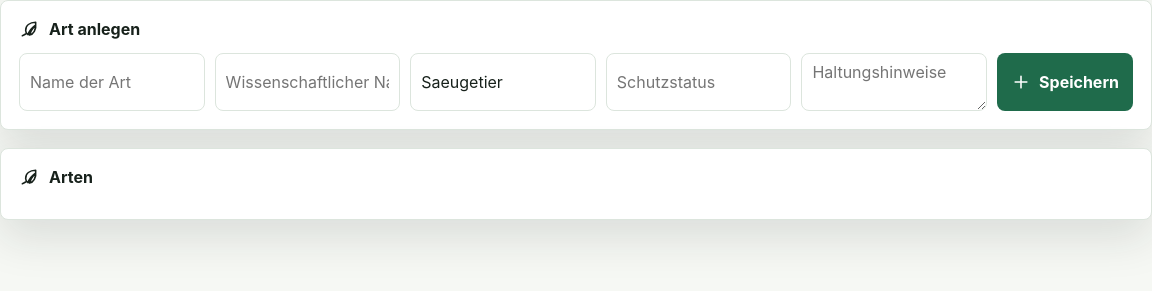
Test: SpeciesView › surfaces an error and does not reload when the API rejects
Type "Rotluchs" into the field with placeholder "Name der Art".
click(112, 82); type("Rotluchs")  # box [19,53,205,111]
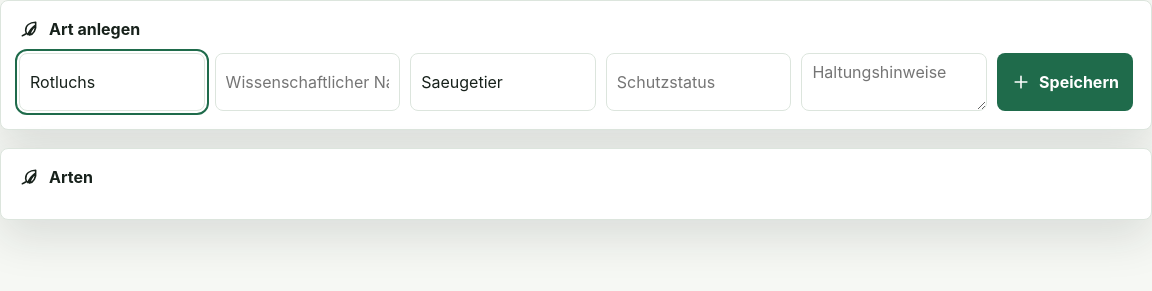
Click the button "Speichern".
click(1065, 82)  # box [997,53,1133,111]
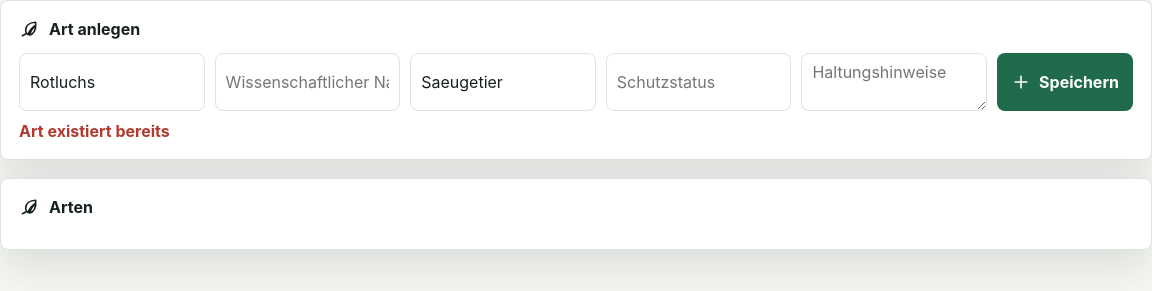
Result: the text "Art existiert bereits" is shown at [19,121,170,141]
